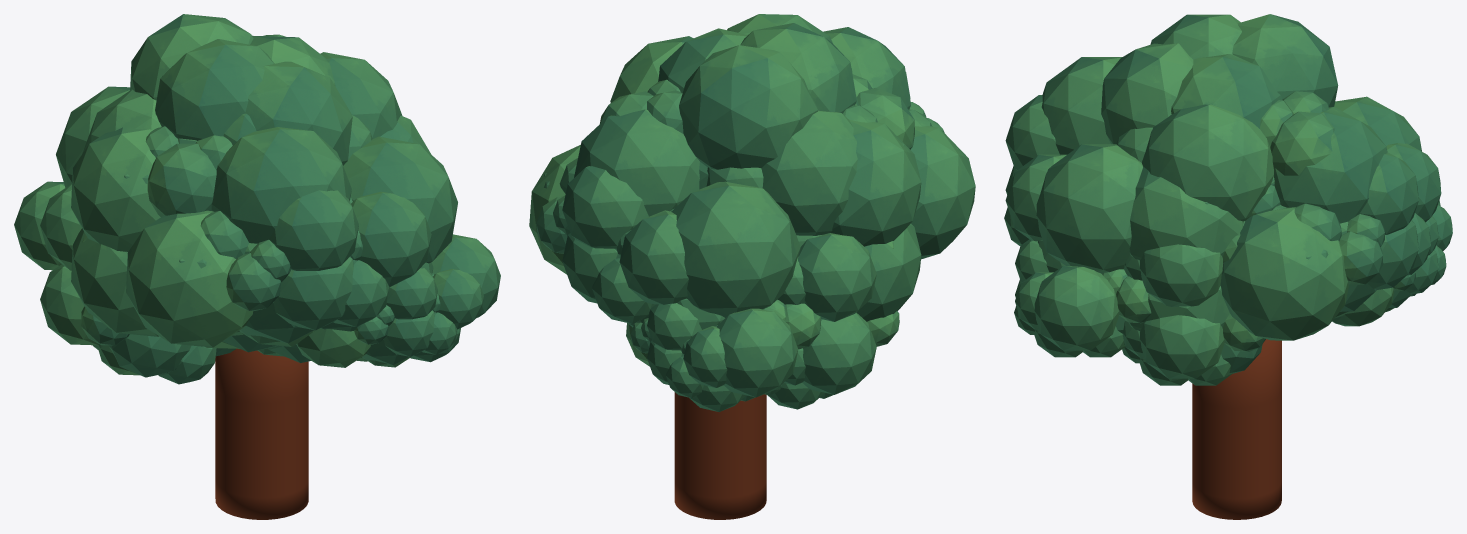
Rendered from polytree.glb.
3 views of the same model, side by side, from view 1: azimuth 30°, elevation 25°; view 2: azimuth 150°, elevation 25°; view 3: azimuth 270°, elevation 25° (orthographic). The views are drawn at different scales.
Parts seen in each view (by area): view 1: Icosphere.001, Icosphere.010, Cylinder; view 2: Icosphere.010, Icosphere.001, Cylinder; view 3: Icosphere.001, Icosphere.010, Cylinder.
Part boxes in pixels (bbox=[...]): Icosphere.001: bbox=[71, 14, 500, 367]; Icosphere.010: bbox=[14, 35, 430, 384]; Cylinder: bbox=[215, 348, 308, 519]; Icosphere.010: bbox=[529, 14, 914, 411]; Icosphere.001: bbox=[600, 23, 975, 321]; Cylinder: bbox=[674, 392, 766, 519]; Icosphere.001: bbox=[1004, 14, 1338, 385]; Icosphere.010: bbox=[1101, 43, 1452, 340]; Cylinder: bbox=[1192, 339, 1281, 519].
Size of the model in its own units: 7.13 by 9.39 by 8.31.
Materials: 3 (2 with a texture image).
